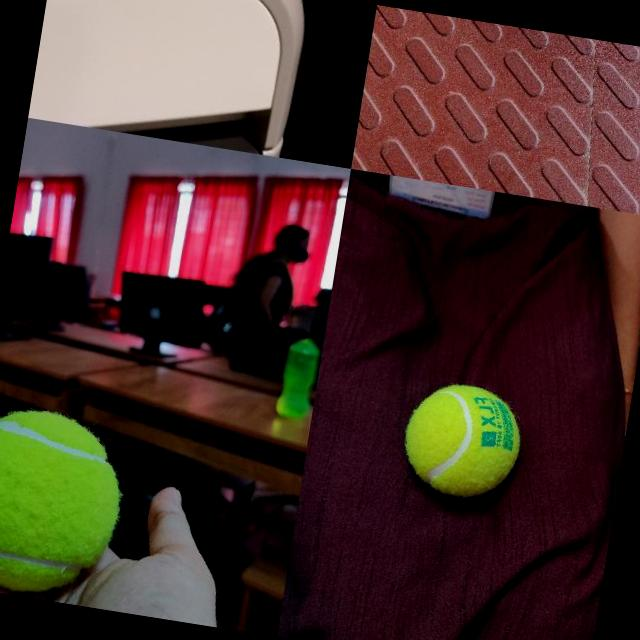Tennis Ball: (0, 402, 133, 604), (399, 377, 528, 503)
